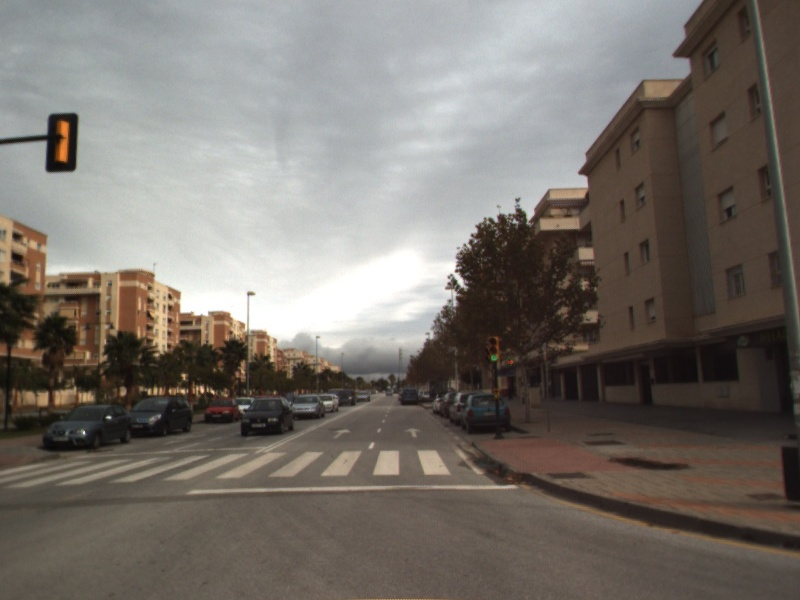STRAIGHT: (331, 426, 353, 440), (403, 425, 424, 439)
